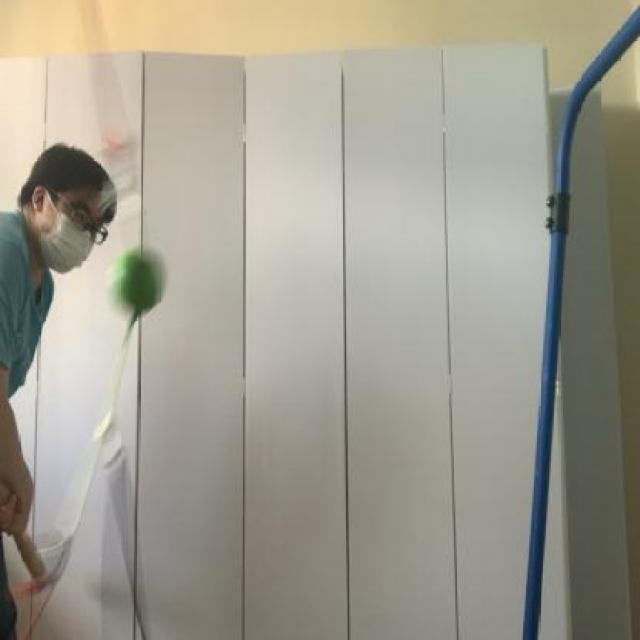baseball: (105, 237, 168, 326)
